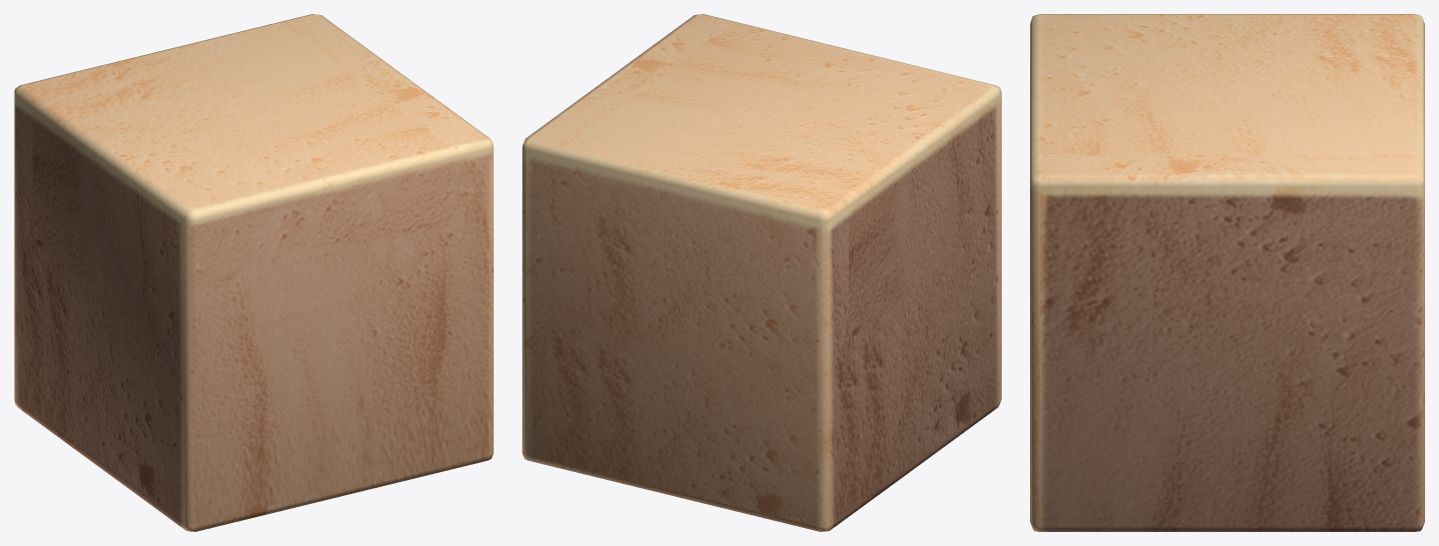
Rendered from yanzhuan.FBX.
The picture shows the model from 3 angles, left to right: view 1: azimuth 30°, elevation 25°; view 2: azimuth 150°, elevation 25°; view 3: azimuth 270°, elevation 25°; orthographic projection. The views are drawn at different scales.
Parts seen in each view (by area): view 1: zhuan; view 2: zhuan; view 3: zhuan.
Part boxes in pixels (x1,y1,x2,y2): zhuan: (14, 14, 493, 531); zhuan: (522, 14, 1001, 531); zhuan: (1030, 14, 1424, 531).
Bounding box in the file's own units: 50 × 50 × 50.
